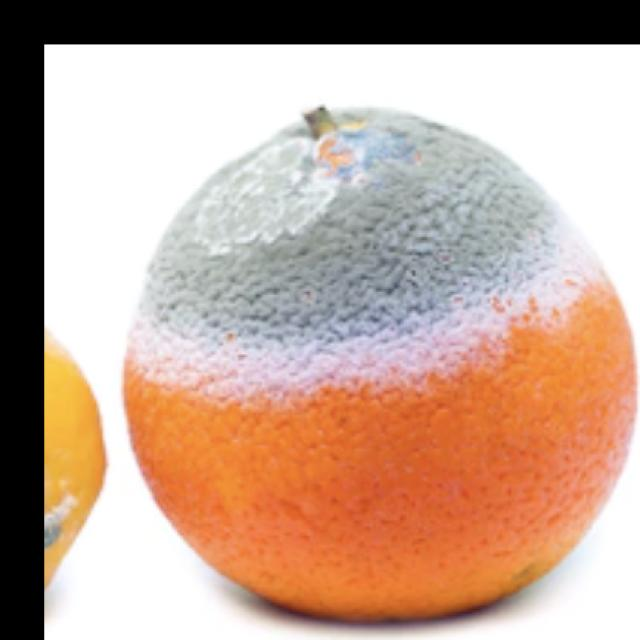sedikit_busuk: (127, 93, 640, 618), (44, 303, 110, 619)
